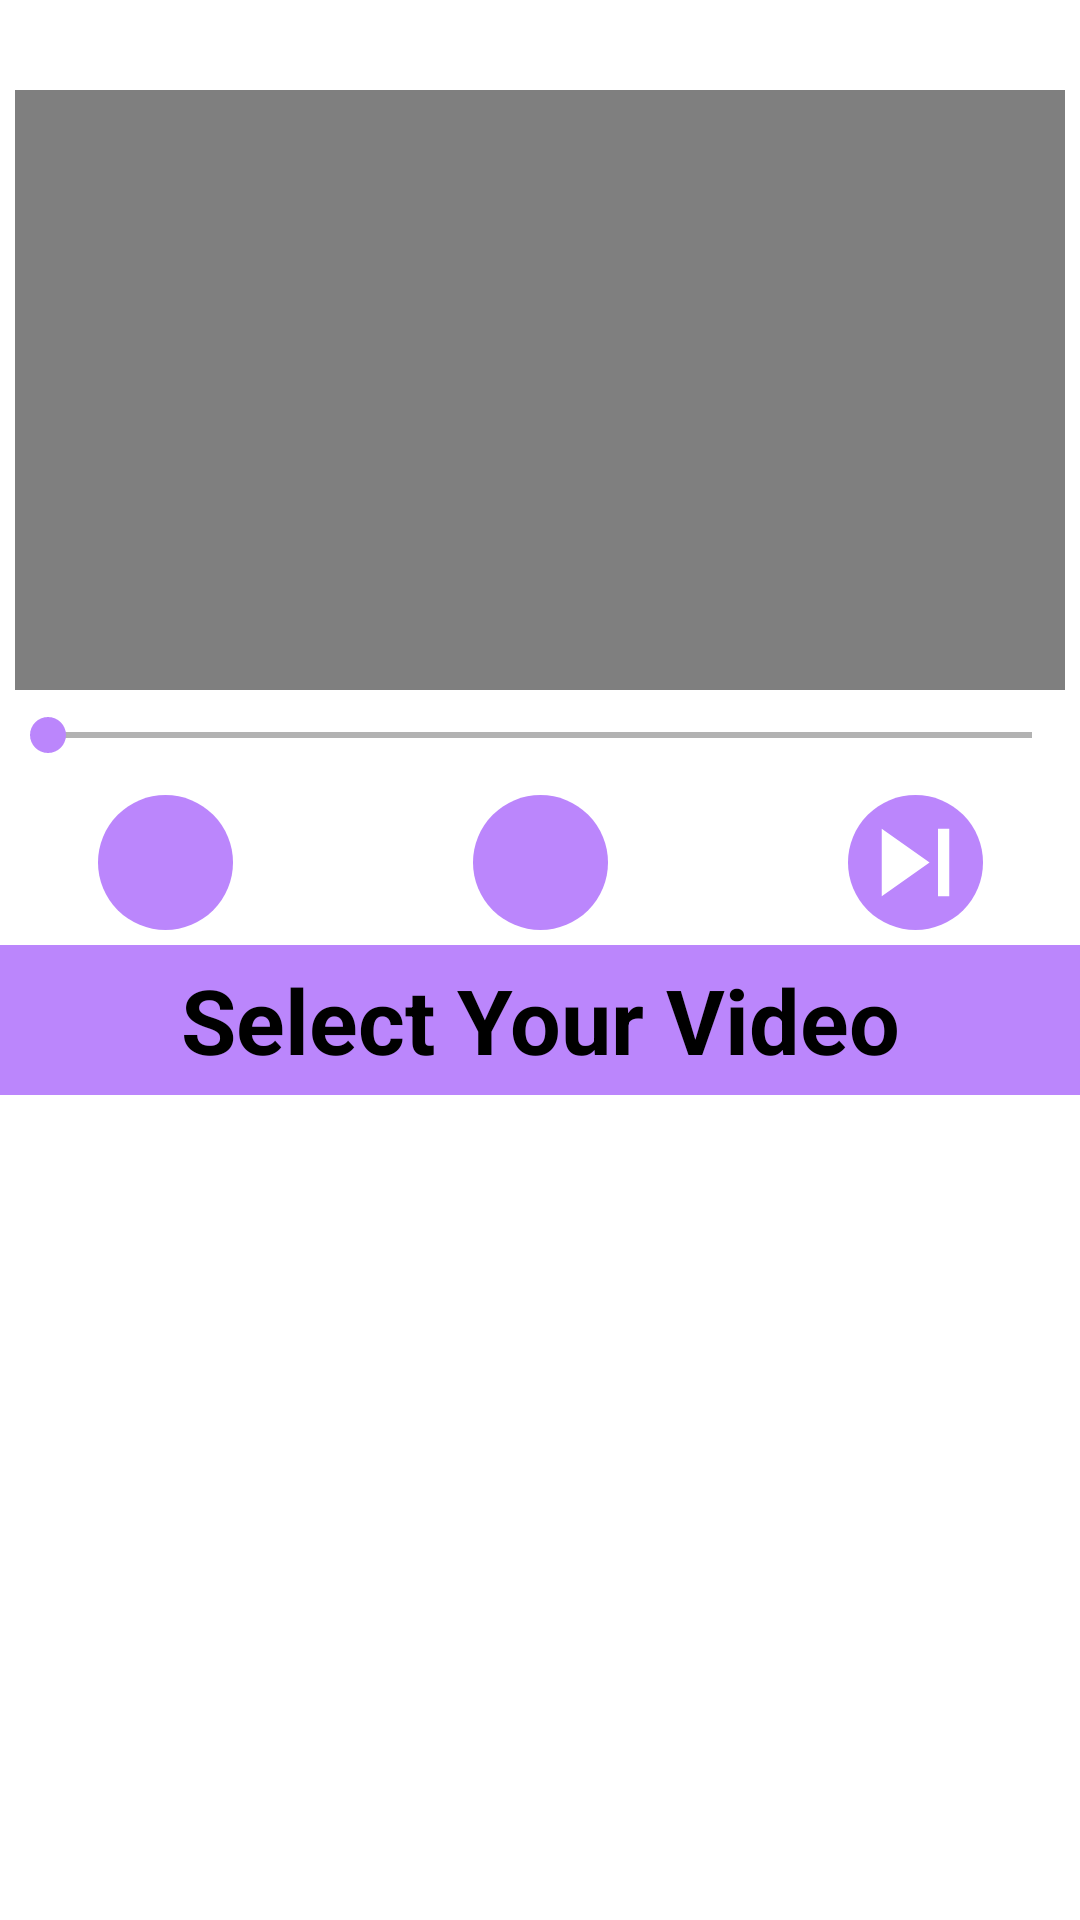

Icon click points for this 1080w x 1920h phone screenshot, format point (x, y):
Next: point (915, 862)
